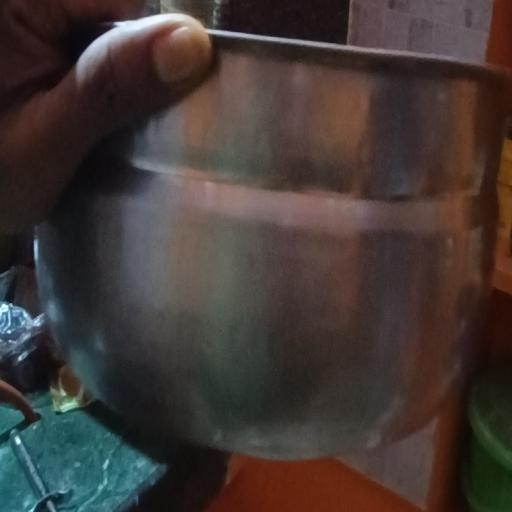vessel: (35, 31, 504, 458)
